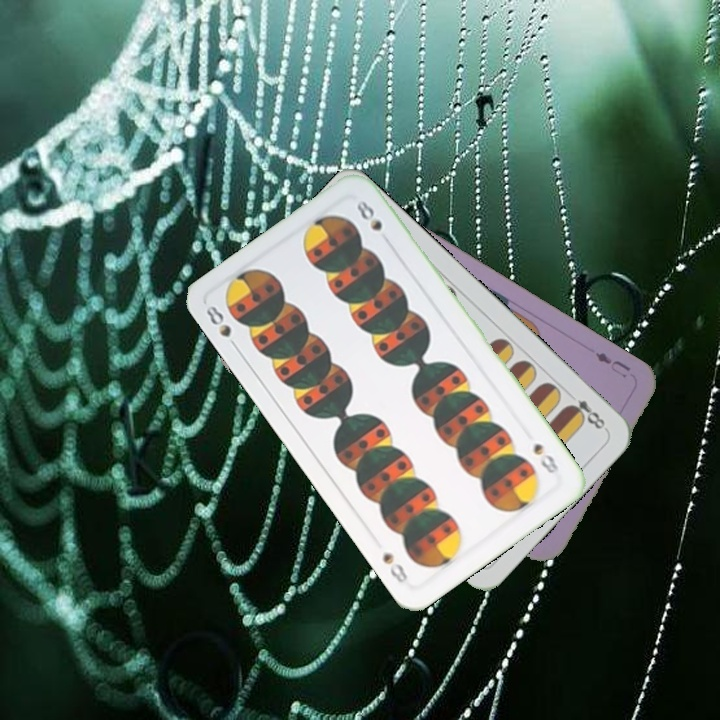E8: (563, 395, 610, 433)
EU: (591, 348, 634, 381)
S8: (202, 301, 242, 354), (529, 439, 562, 477)
